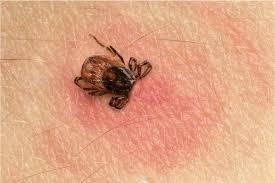Tick: (47, 33, 167, 160)
